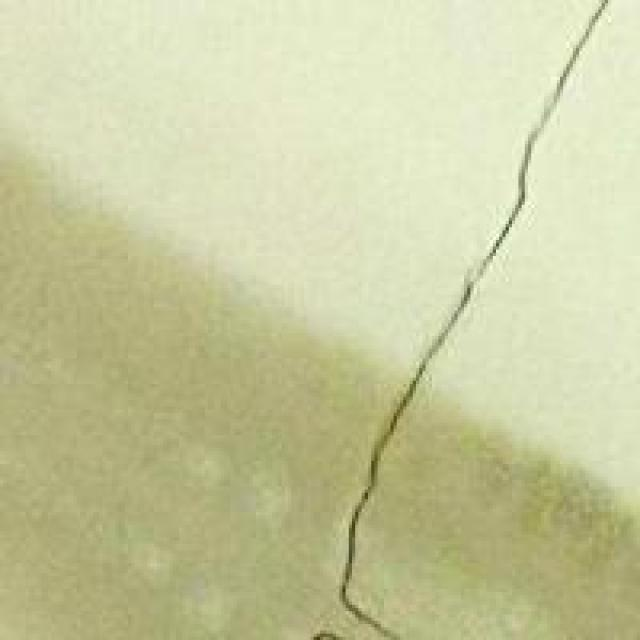crack: (320, 0, 602, 637)
